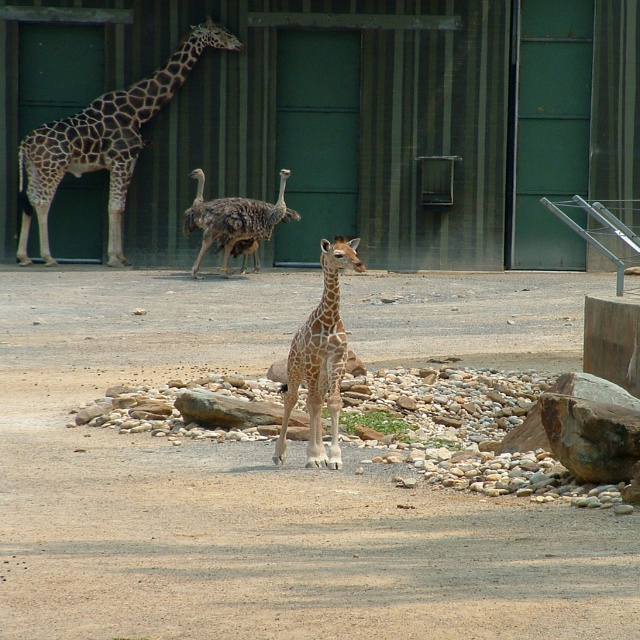Giraffe: (9, 24, 240, 270), (269, 238, 369, 466)
